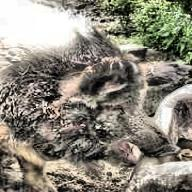boar: (0, 0, 175, 175)
